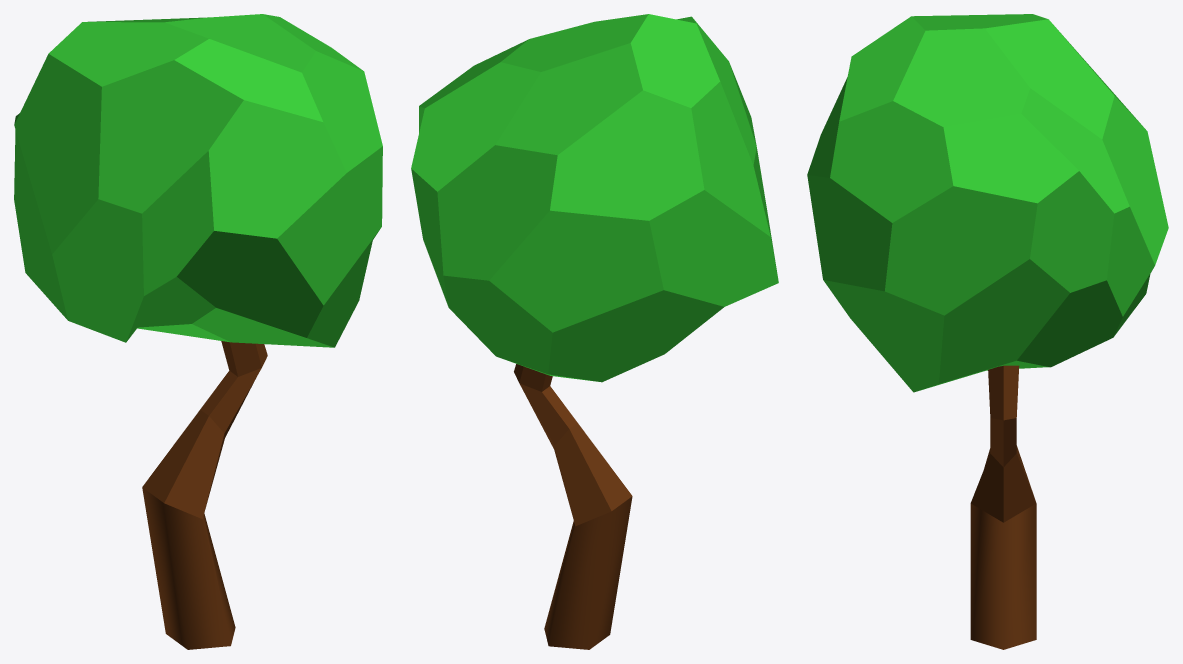
The model's file is tree.obj.
The picture shows the model from 3 angles, left to right: view 1: azimuth 30°, elevation 25°; view 2: azimuth 150°, elevation 25°; view 3: azimuth 270°, elevation 25°; orthographic projection. The views are drawn at different scales.
Parts seen in each view (by area): view 1: Hedra001, Cylinder002; view 2: Hedra001, Cylinder002; view 3: Hedra001, Cylinder002.
Part boxes in pixels (x1=…): Hedra001: x1=14, y1=14, x2=382, y2=347; Cylinder002: x1=142, y1=341, x2=267, y2=649; Hedra001: x1=411, y1=14, x2=778, y2=382; Cylinder002: x1=514, y1=364, x2=632, y2=649; Hedra001: x1=807, y1=14, x2=1168, y2=392; Cylinder002: x1=970, y1=365, x2=1036, y2=649.
Size of the model in its own units: 65.79 by 121 by 67.59.
